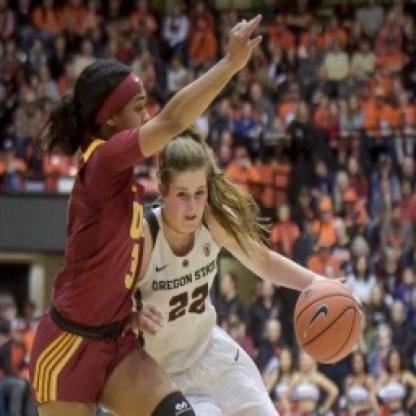basketball: (288, 271, 370, 364)
